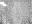person: (1, 1, 7, 8)
